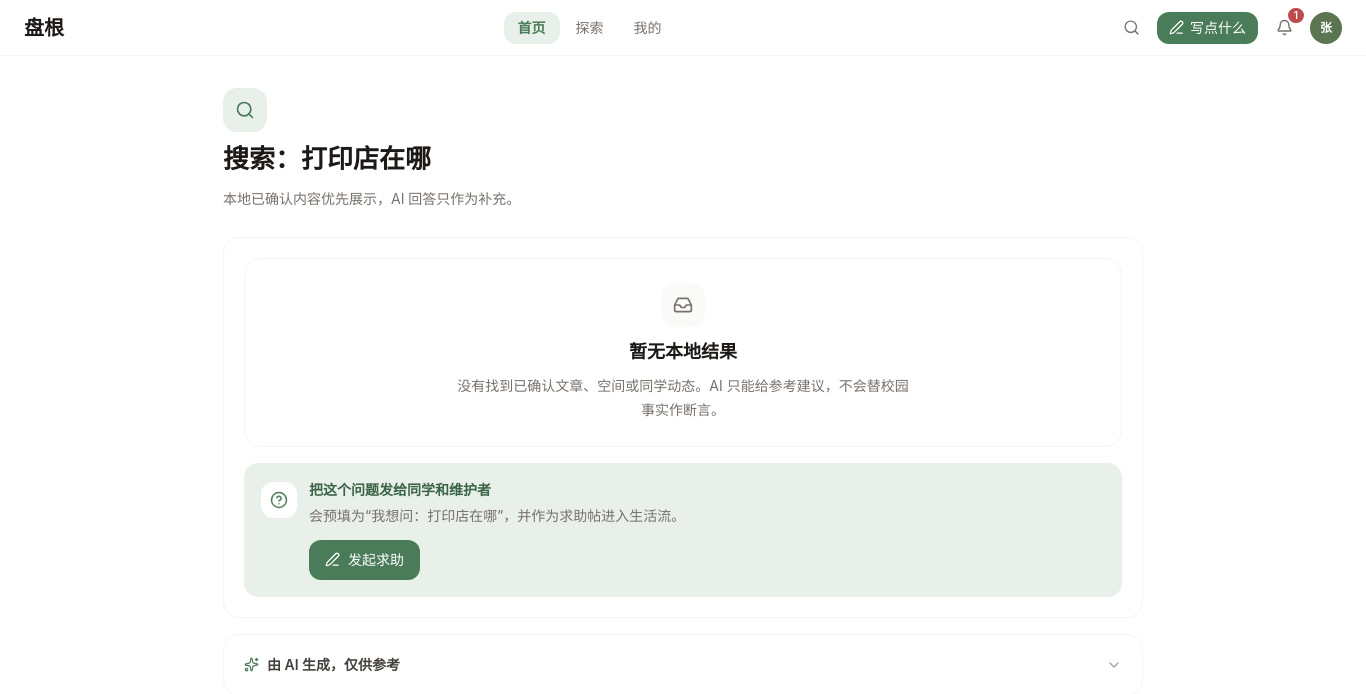
Test: frontlife pages › turns an empty search into a prefilled help post
What coordinates should you click on to do the following:
click the button "发起求助"
I would click on:
 (364, 560)
Its box is top-left (309, 540), bottom-right (420, 580).
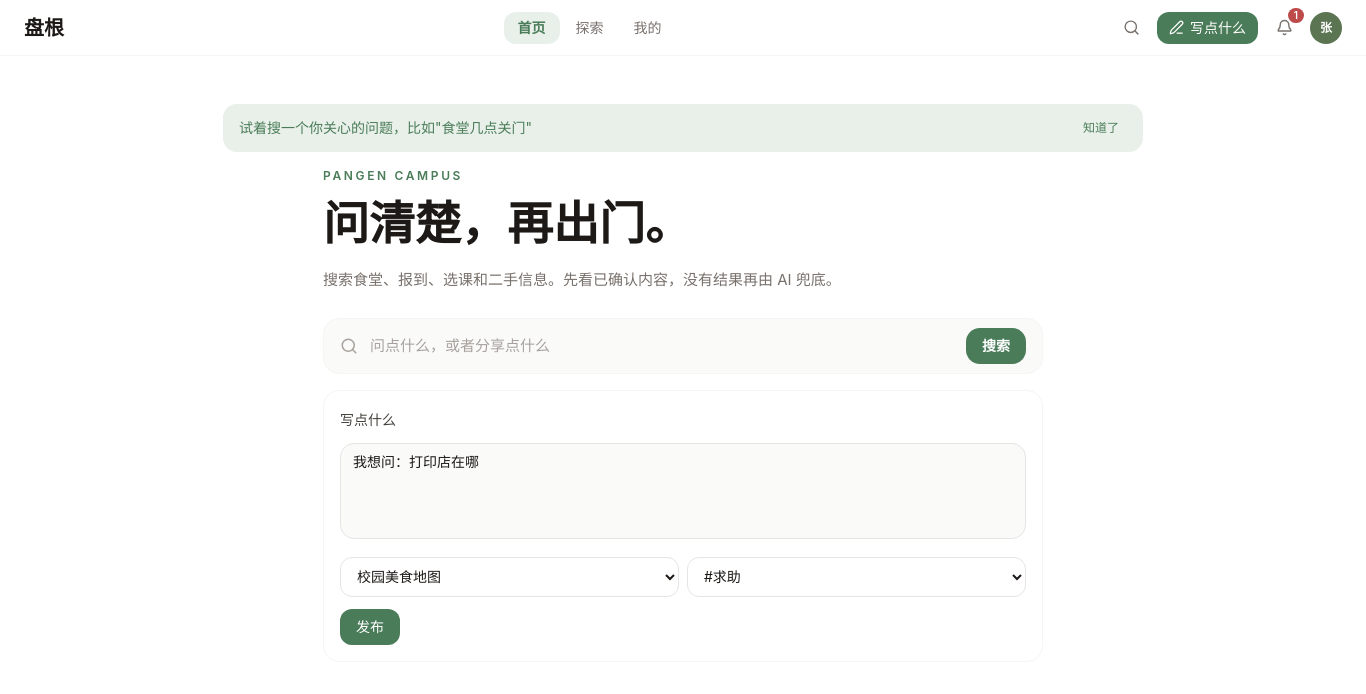
expect the text box showing "我想问：打印店在哪" is shown: met, box top-left (340, 442), bottom-right (1026, 538)
expect the 2nd dropdown showing "#求助" is shown: met, box top-left (687, 556), bottom-right (1026, 596)
What coordinates should you click on to do the following:
click the button "发布"
I would click on:
 (370, 626)
Its box is top-left (340, 608), bottom-right (400, 644).
(page scrolled)
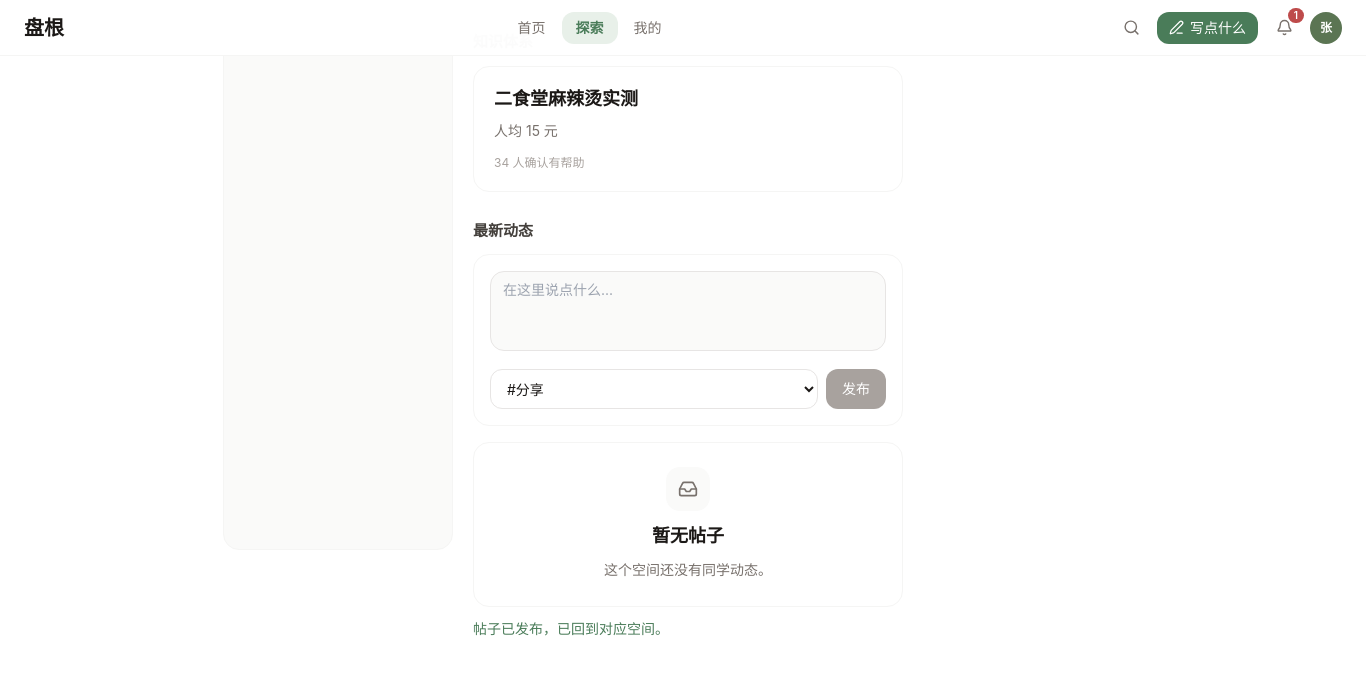
expect the text "帖子已发布，已回到对应空间。" is shown: met, box top-left (473, 620), bottom-right (669, 637)
